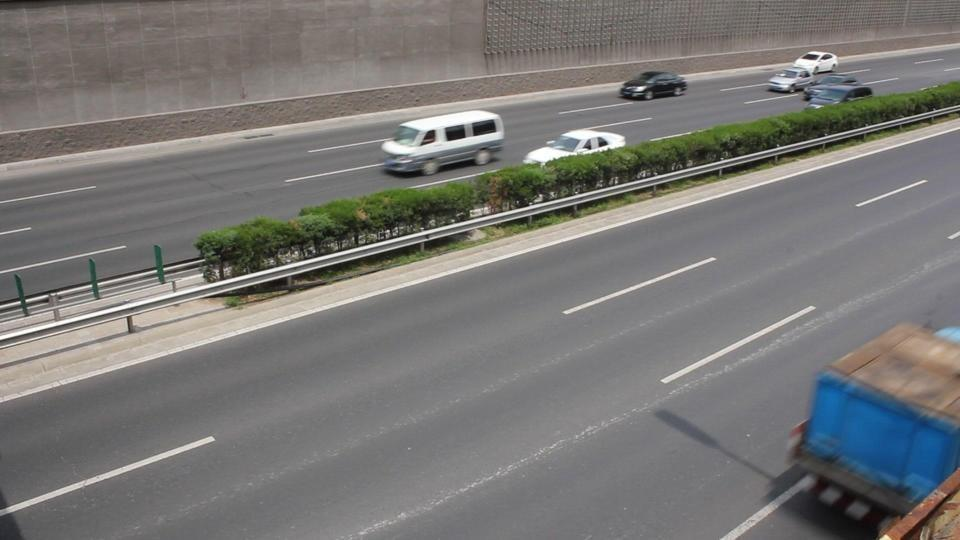car: (380, 108, 505, 176), (523, 128, 627, 166), (803, 75, 874, 107), (621, 70, 688, 101), (768, 66, 814, 94), (792, 50, 837, 76)
